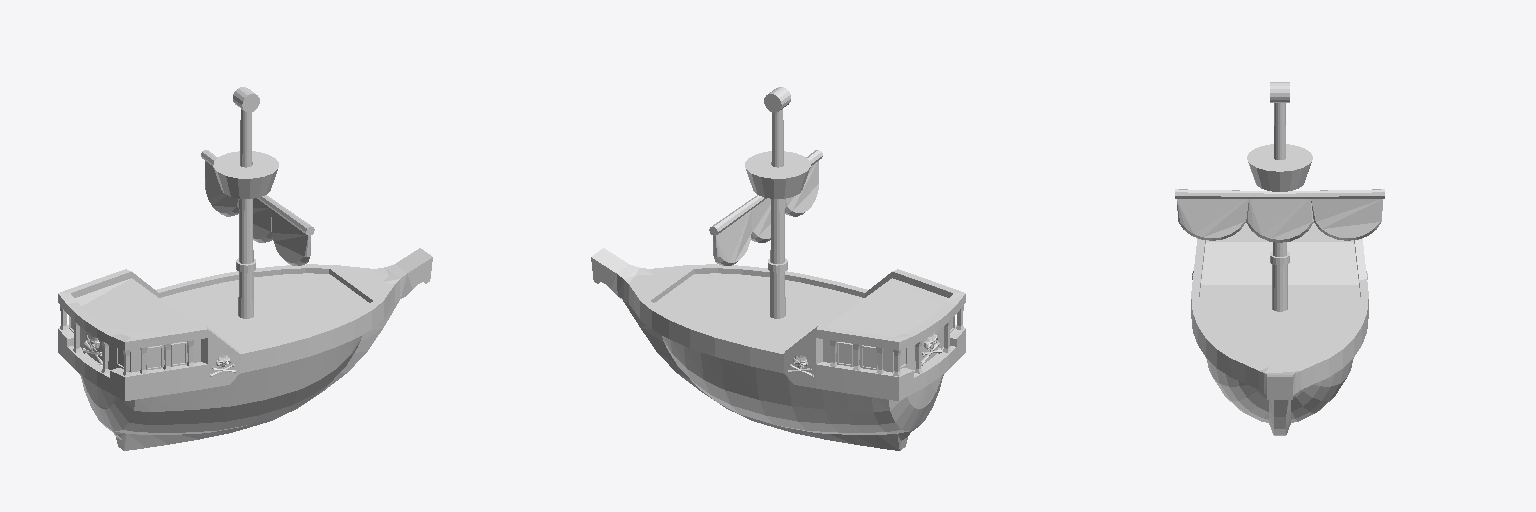
Rendered from PirateShip.obj.
The picture shows the model from 3 angles: view 1: azimuth 30°, elevation 25°; view 2: azimuth 150°, elevation 25°; view 3: azimuth 270°, elevation 25°; orthographic projection.
Visible parts, largest first — view 1: n0b0; view 2: n0b0; view 3: n0b0.
Boxes of the visible parts, <box> form: n0b0: <box>58,87,432,450</box>; n0b0: <box>591,87,965,450</box>; n0b0: <box>1175,82,1384,435</box>.
Size of the model in its own units: 22.83 by 21.47 by 12.2.